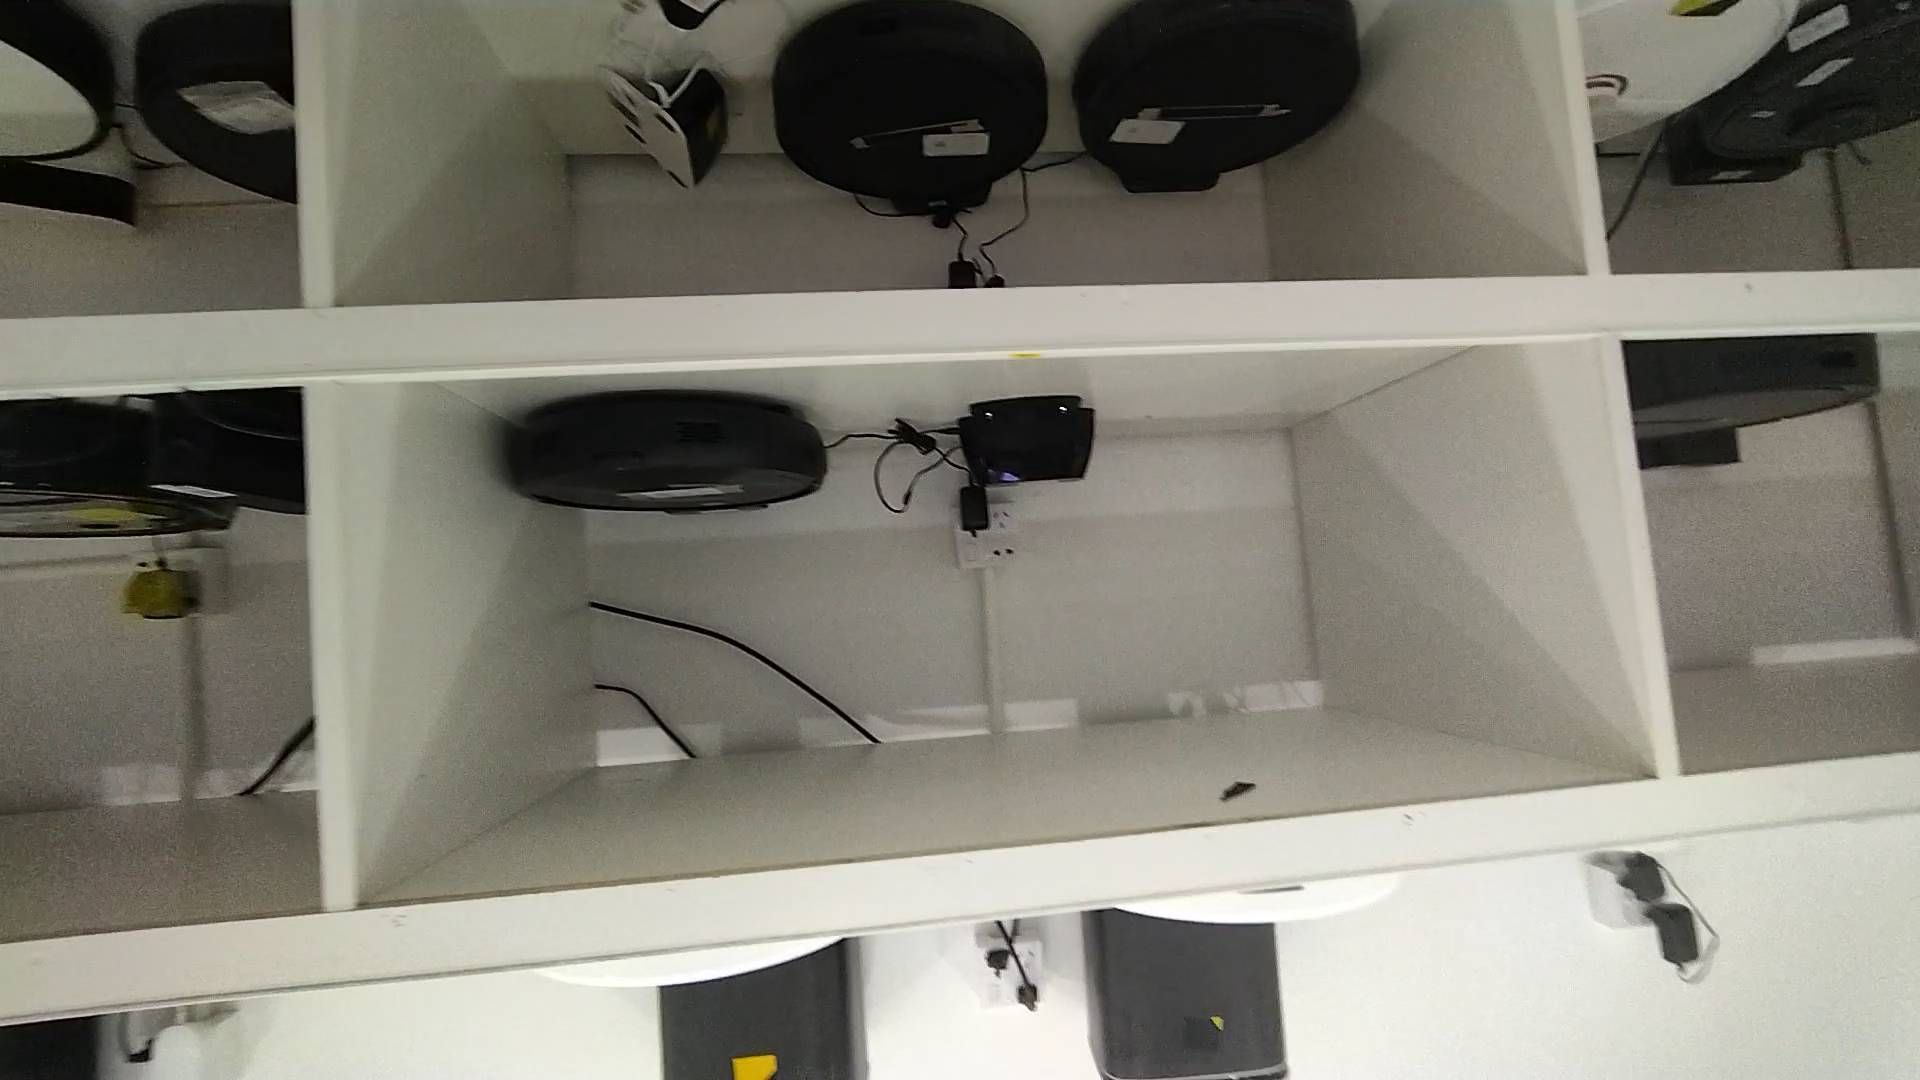dust collecting barrel: (1077, 907, 1312, 1080)
recharge seat: (603, 58, 738, 191), (957, 396, 1102, 489)
